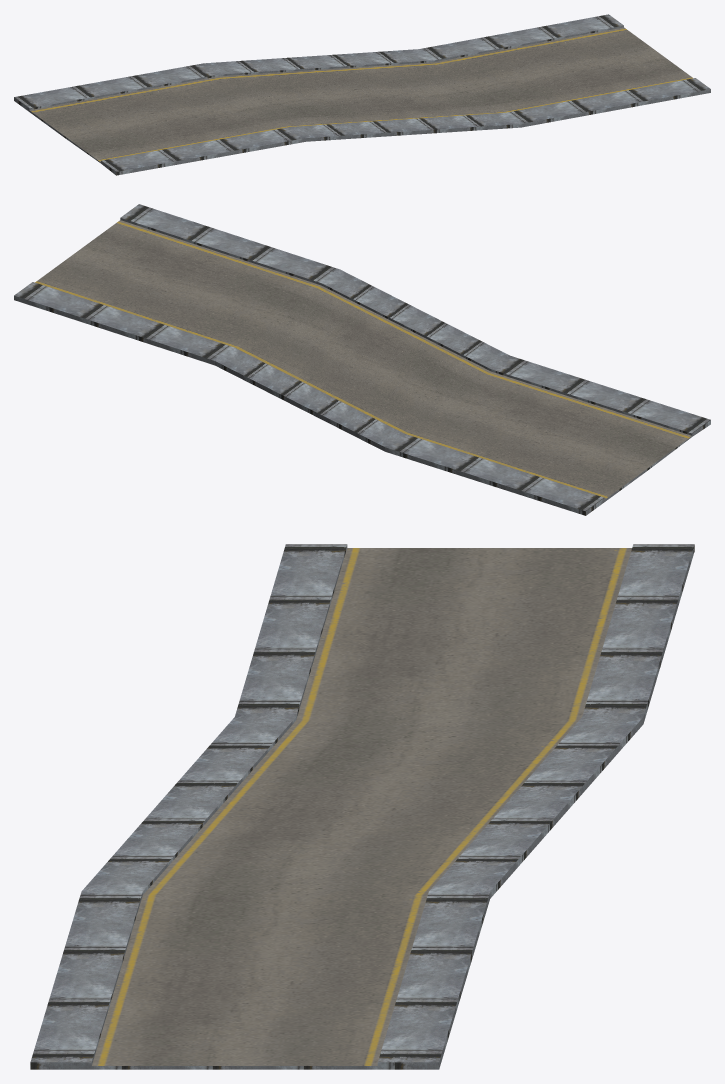
The model's file is Urban_Road2Sheer_Model.fbx.
The picture shows the model from 3 angles, top to bottom: view 1: azimuth 30°, elevation 25°; view 2: azimuth 150°, elevation 25°; view 3: azimuth 270°, elevation 25°; orthographic projection. The views are drawn at different scales.
Visible parts, largest first — view 1: Urban_Road2Sheer_Mesh; view 2: Urban_Road2Sheer_Mesh; view 3: Urban_Road2Sheer_Mesh.
Boxes of the visible parts, bbox=[...] form: Urban_Road2Sheer_Mesh: bbox=[14, 14, 710, 175]; Urban_Road2Sheer_Mesh: bbox=[14, 204, 710, 515]; Urban_Road2Sheer_Mesh: bbox=[30, 544, 694, 1069].
Size of the model in its own units: 48 by 0.4 by 26.
